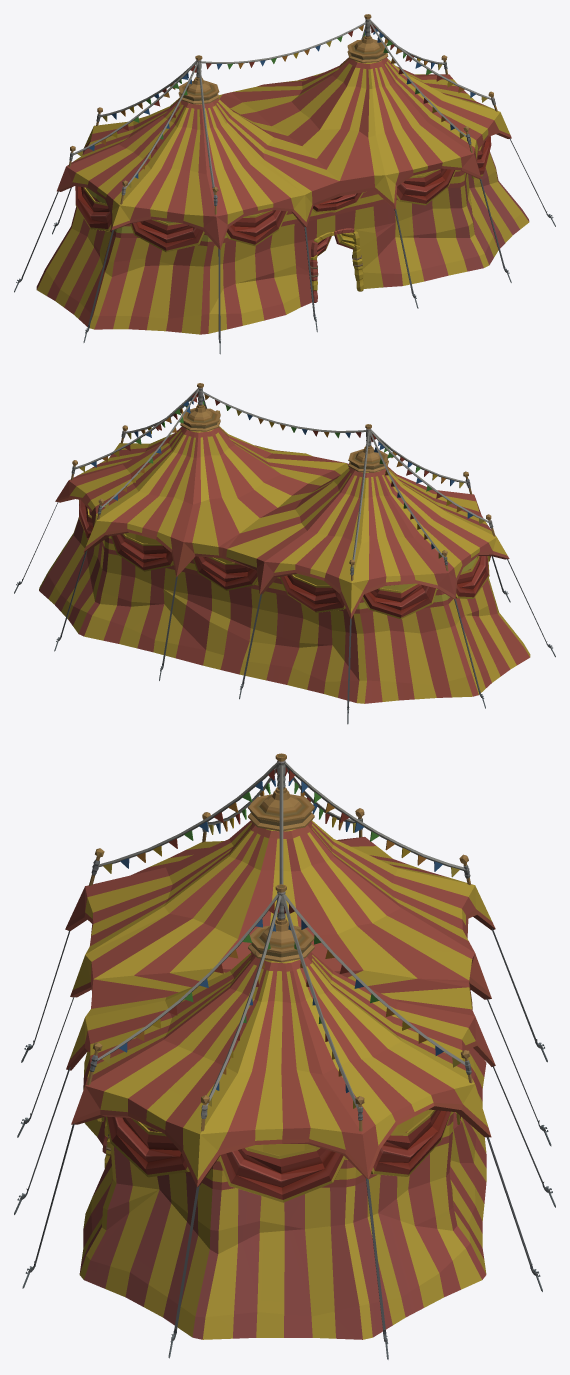
The model's file is tent-large-2.glb.
3 views of the same model, one above another, from view 1: azimuth 30°, elevation 25°; view 2: azimuth 150°, elevation 25°; view 3: azimuth 270°, elevation 25° (orthographic). The views are drawn at different scales.
Visible parts, largest first — view 1: SM_Prop_Tent_Large_02; view 2: SM_Prop_Tent_Large_02; view 3: SM_Prop_Tent_Large_02.
Boxes of the visible parts, left/top/right/bottom form: SM_Prop_Tent_Large_02: left=14, top=14, right=555, bottom=354; SM_Prop_Tent_Large_02: left=14, top=383, right=555, bottom=724; SM_Prop_Tent_Large_02: left=14, top=753, right=555, bottom=1359.
Bounding box in the file's own units: 2659 × 1209 × 1657.
1 material, 1 textured.
